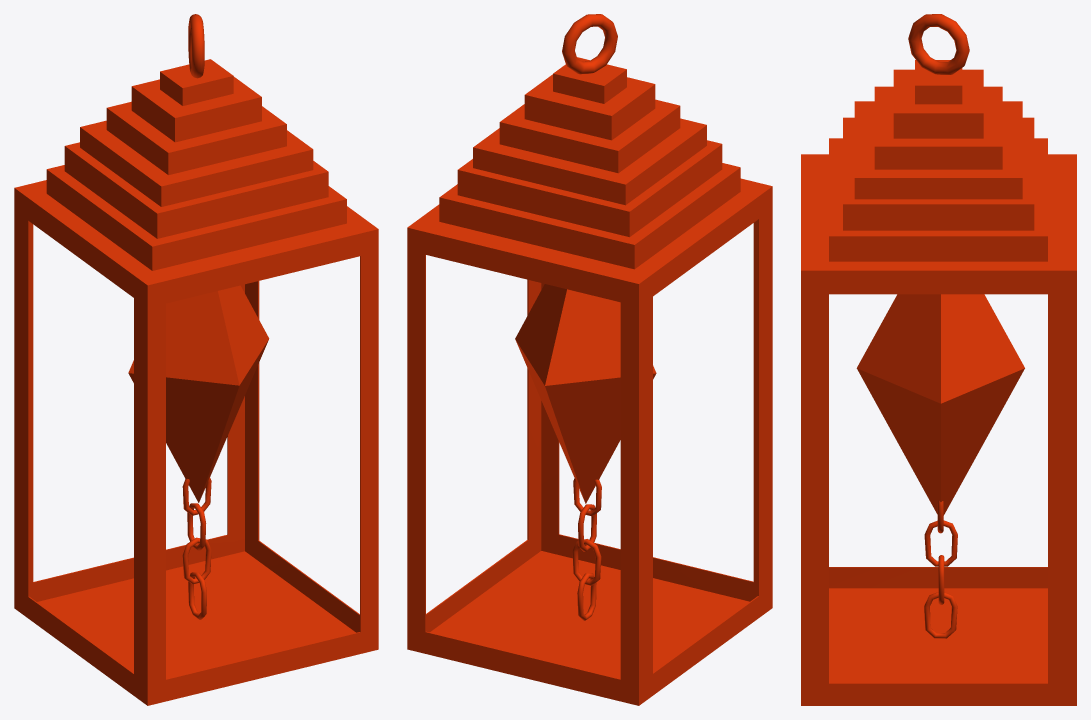
Rendered from lampa_low.fbx.
3 views of the same model, side by side, from view 1: azimuth 30°, elevation 25°; view 2: azimuth 150°, elevation 25°; view 3: azimuth 270°, elevation 25° (orthographic). The views are drawn at different scales.
Parts seen in each view (by area): view 1: corpus_low, cristal_low, chain_low, ring_low; view 2: corpus_low, cristal_low, chain_low, ring_low; view 3: corpus_low, cristal_low, ring_low, chain_low.
Part boxes in pixels (left/top/right/bottom): corpus_low: left=14, top=59, right=378, bottom=705; cristal_low: left=128, top=285, right=269, bottom=502; chain_low: left=182, top=477, right=211, bottom=619; ring_low: left=188, top=14, right=204, bottom=78; corpus_low: left=407, top=57, right=772, bottom=705; cristal_low: left=515, top=284, right=656, bottom=503; chain_low: left=572, top=478, right=601, bottom=620; ring_low: left=562, top=14, right=617, bottom=74; corpus_low: left=801, top=60, right=1076, bottom=705; cristal_low: left=856, top=294, right=1024, bottom=515; ring_low: left=908, top=14, right=969, bottom=74; chain_low: left=924, top=500, right=957, bottom=638.
Size of the model in its own units: 183 by 463 by 183.
